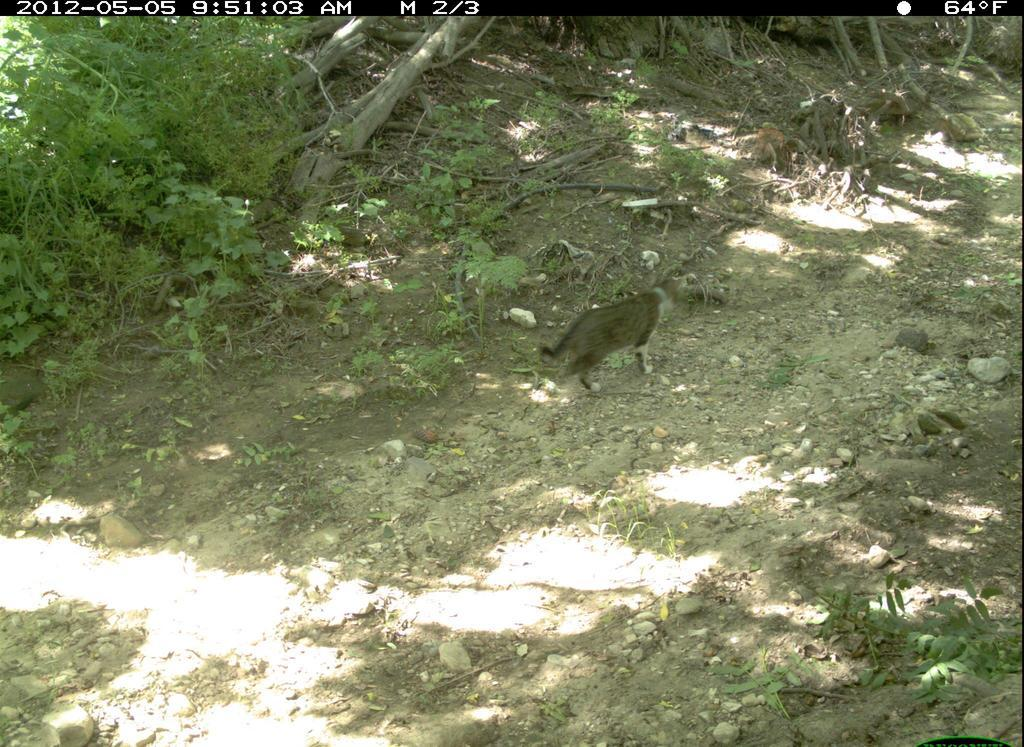cat: (532, 267, 693, 411)
